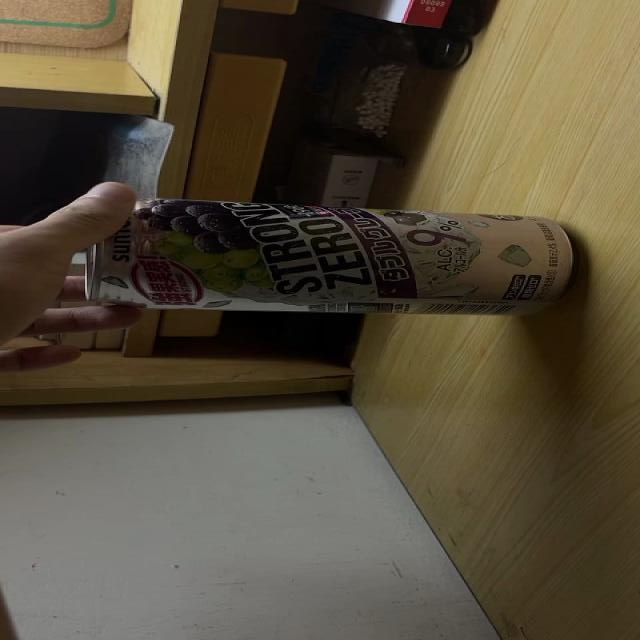Liquor: (82, 199, 579, 317)
